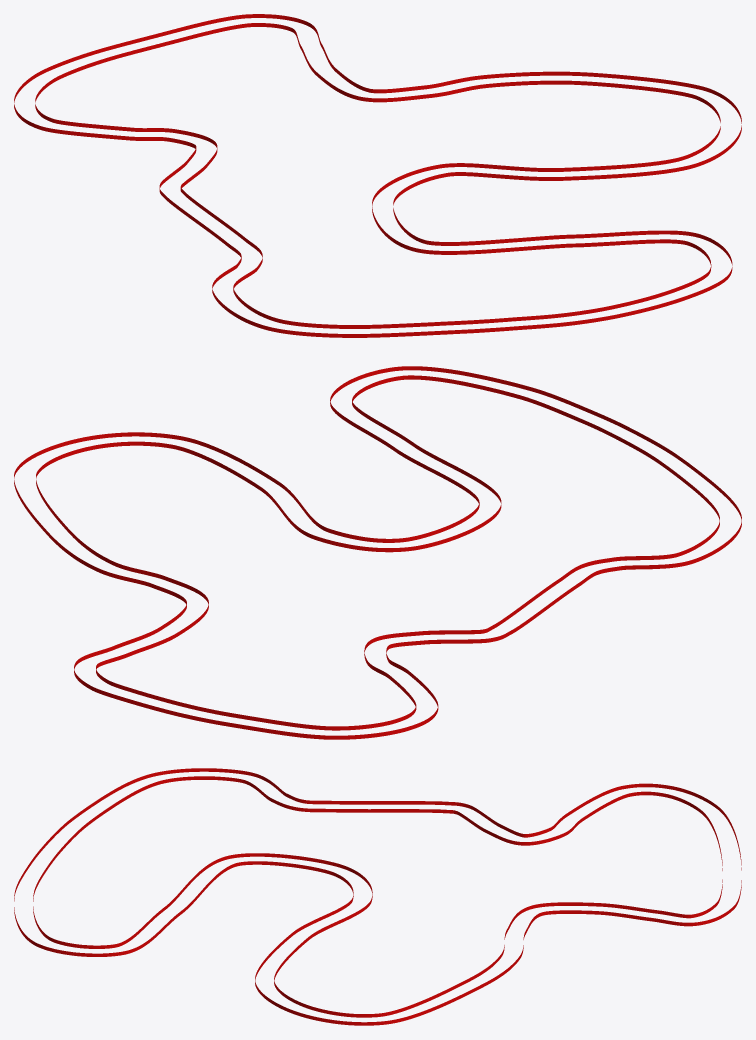
Rendered from leitplanken_track_02_colmesh.fbx.
3 renders of one model, top to bottom at view 1: azimuth 30°, elevation 25°; view 2: azimuth 150°, elevation 25°; view 3: azimuth 270°, elevation 25°, orthographic. The views are drawn at different scales.
Parts seen in each view (by area): view 1: Mesh; view 2: Mesh; view 3: Mesh.
Part boxes in pixels (bbox=[...]): Mesh: bbox=[14, 14, 741, 337]; Mesh: bbox=[14, 366, 741, 739]; Mesh: bbox=[14, 768, 741, 1025].
Size of the model in its own units: 111940 by 1896 by 134075.
